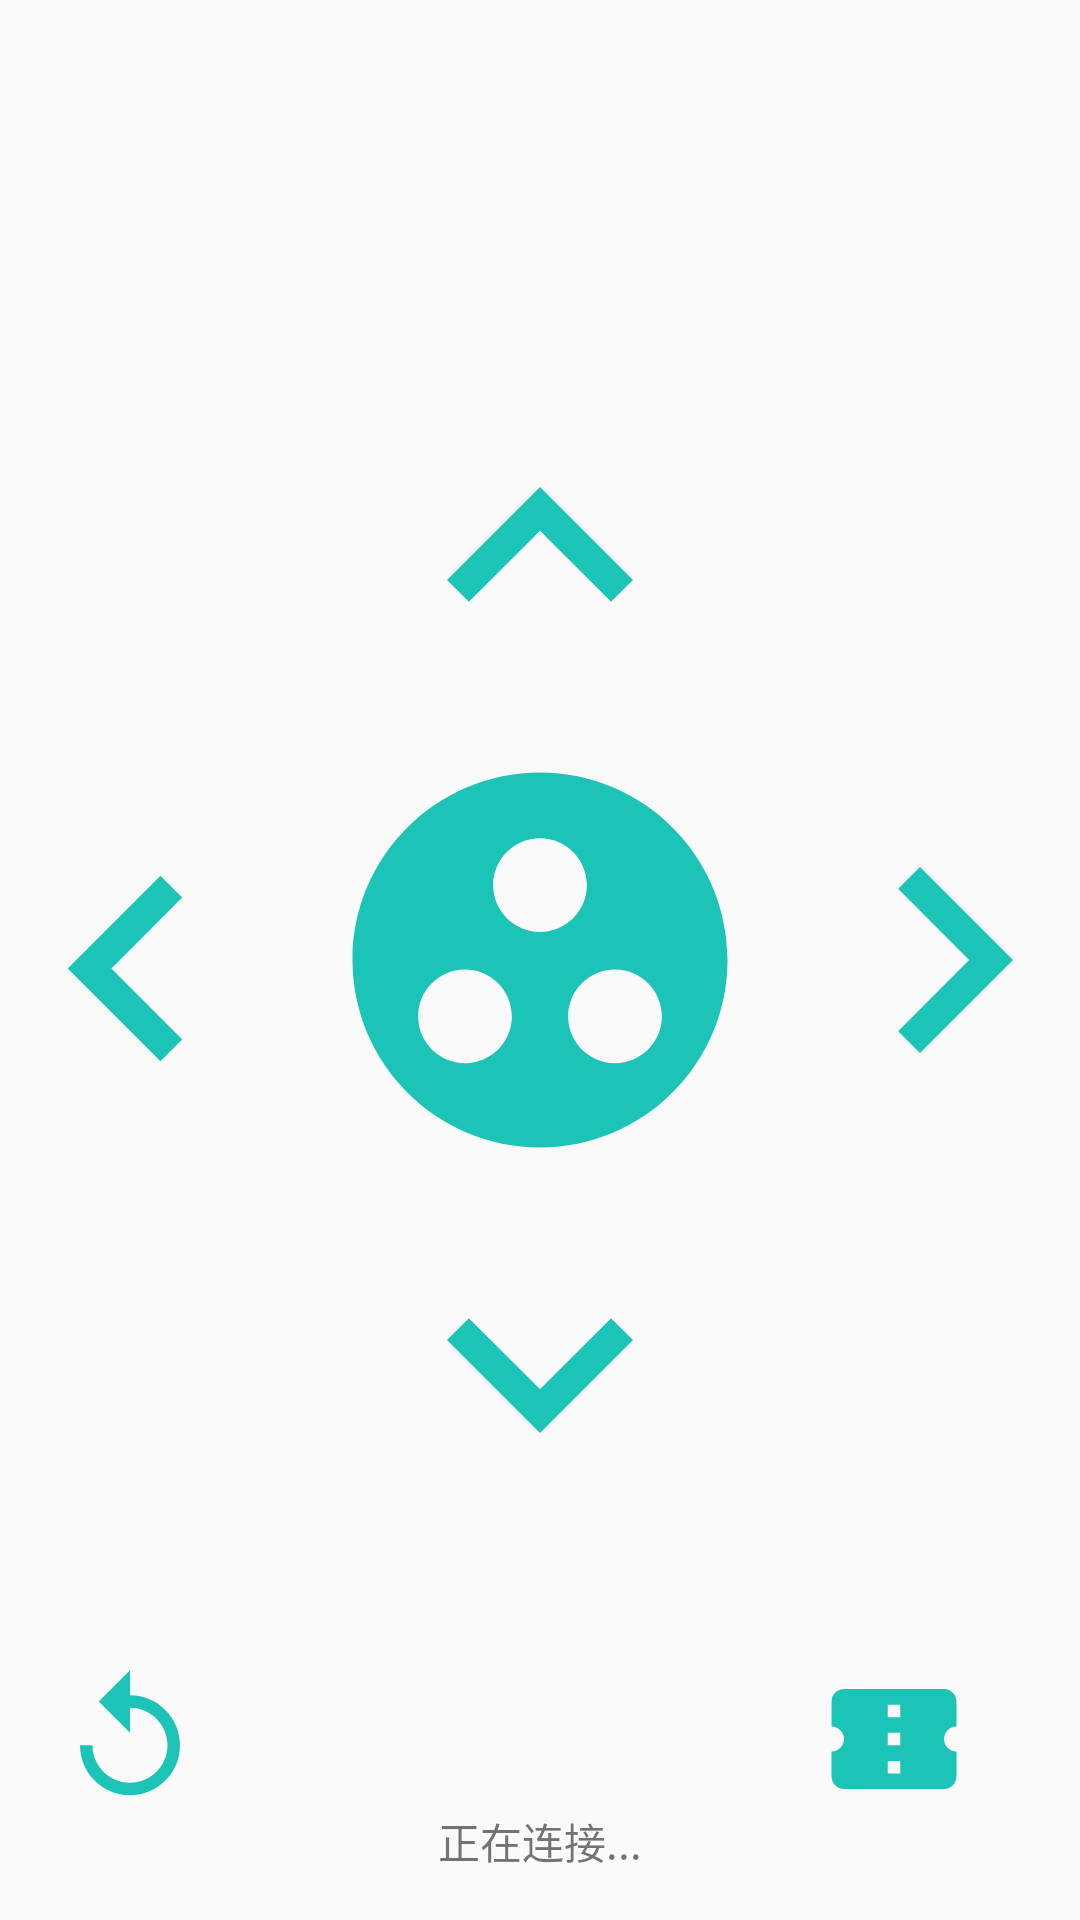

Point at icon controls on the screen. Image size 1080×1920, points as (x=x, y=y).
down: (x=540, y=1375)
